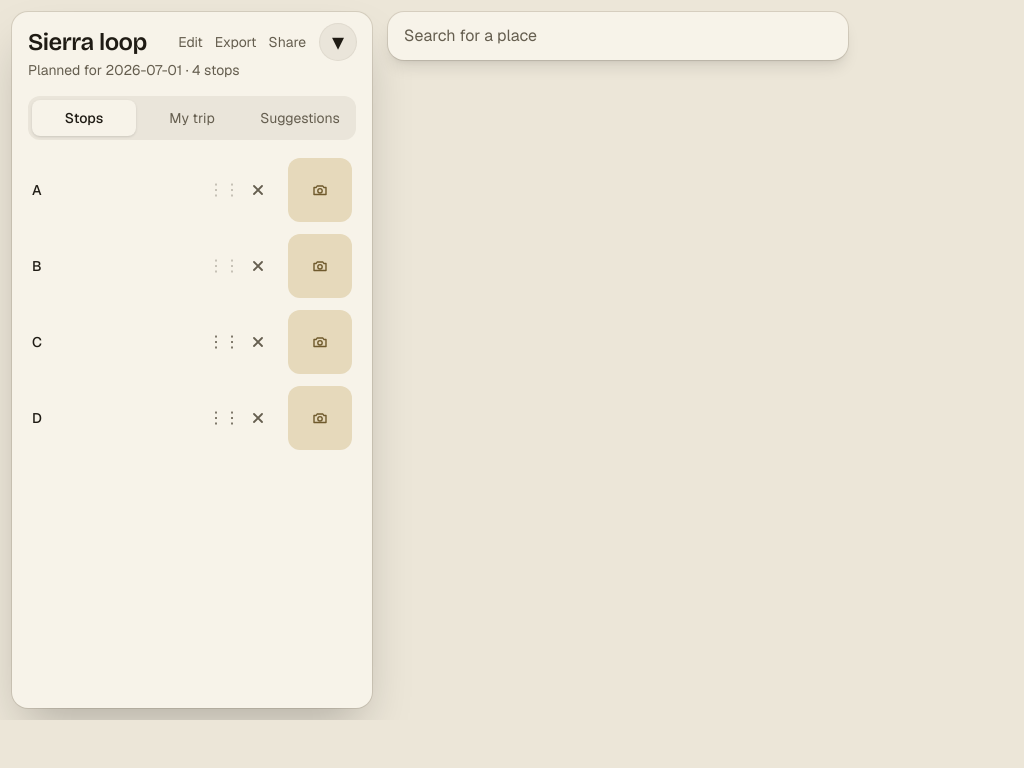
TripEditor announcements and notes › leaves visited stops out of the 'can't fit in daylight' list
The width and height of the screenshot is (1024, 768).
Click the tab "My trip". click: (192, 118)
box: [140,100,244,136]
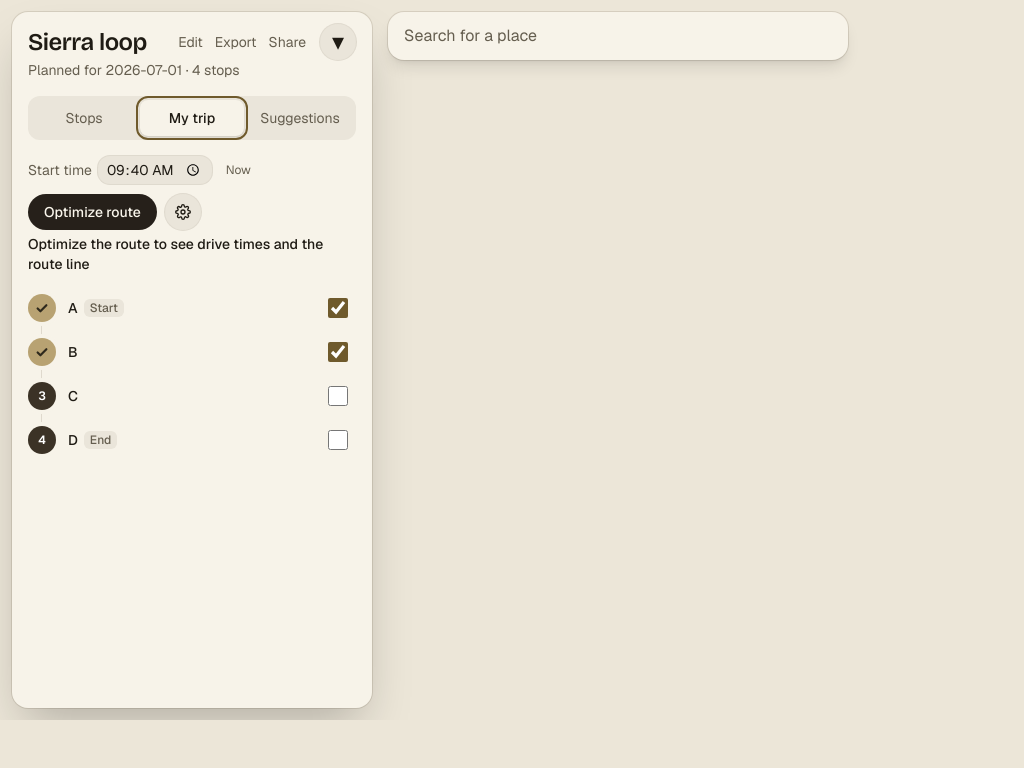
Click the button "Optimize route". click: (92, 212)
box: [28,194,157,230]
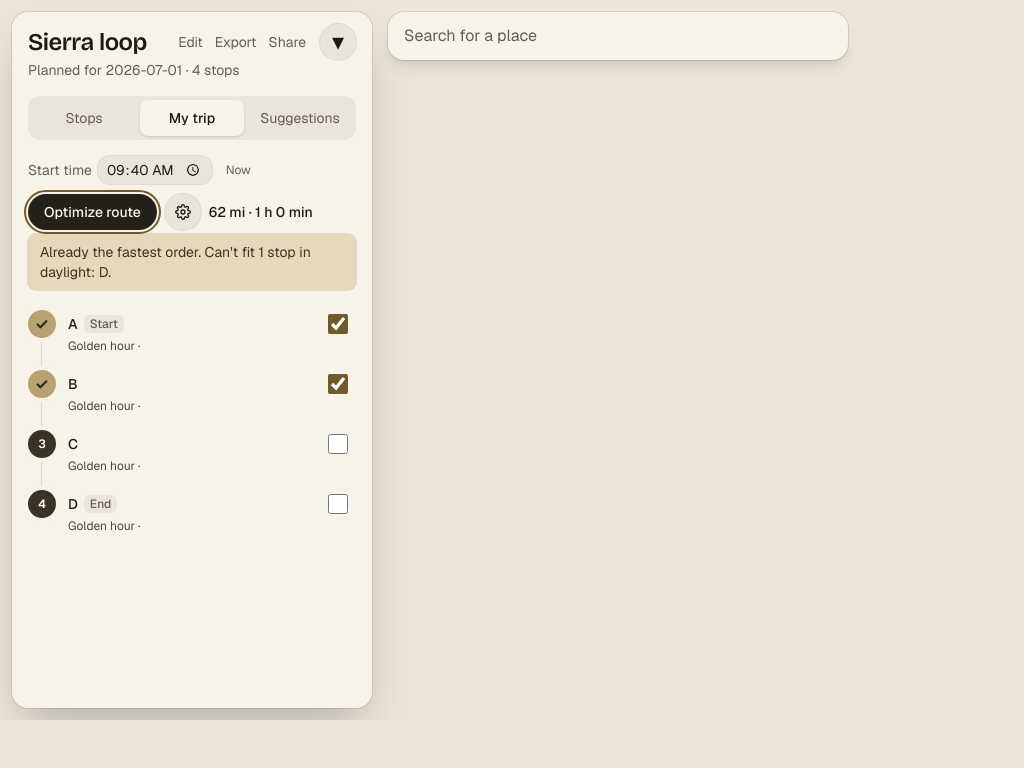
Expected: the message with test id "optimize-status" shows "Can't fit 1 stop in daylight: D", [40,243,311,281]
